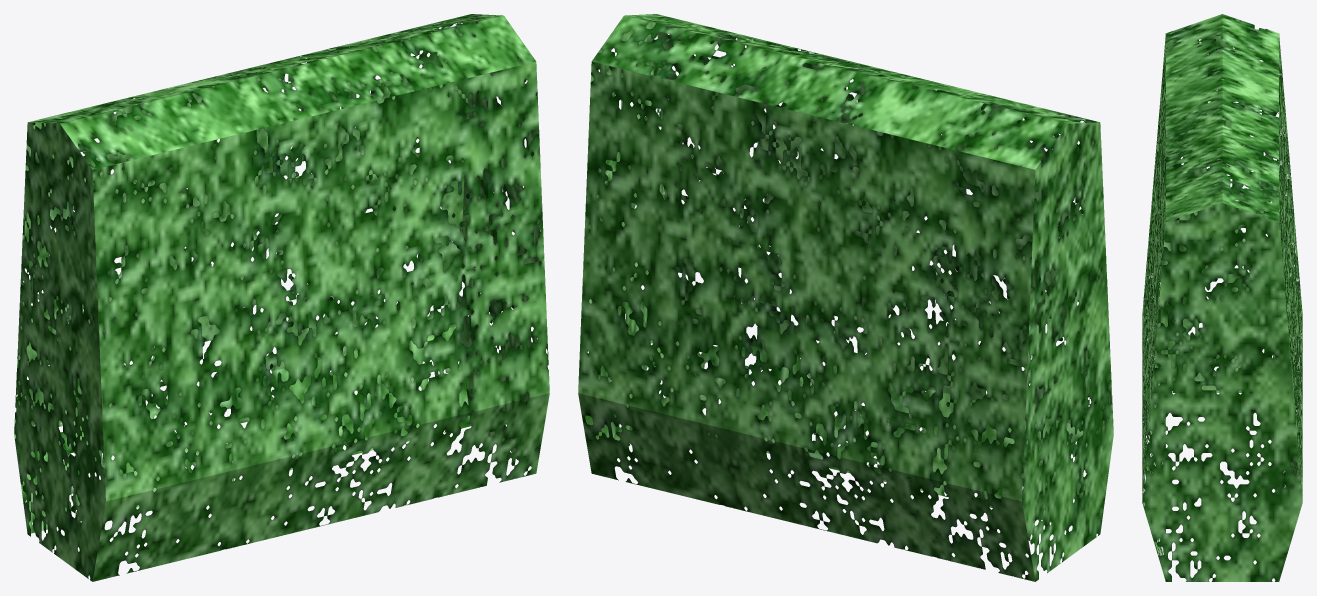
File: bush_tall_spring.fbx
3 renders of one model, left to right at view 1: azimuth 30°, elevation 25°; view 2: azimuth 150°, elevation 25°; view 3: azimuth 270°, elevation 25°, orthographic. The views are drawn at different scales.
Parts seen in each view (by area): view 1: bush_tall_spring; view 2: bush_tall_spring; view 3: bush_tall_spring.
Part boxes in pixels (x1,y1,x2,y2): bush_tall_spring: (14, 14, 549, 581); bush_tall_spring: (578, 14, 1113, 581); bush_tall_spring: (1142, 14, 1302, 581).
Bounding box in the file's own units: 201 × 188 × 71.91.
1 material, 1 textured.
